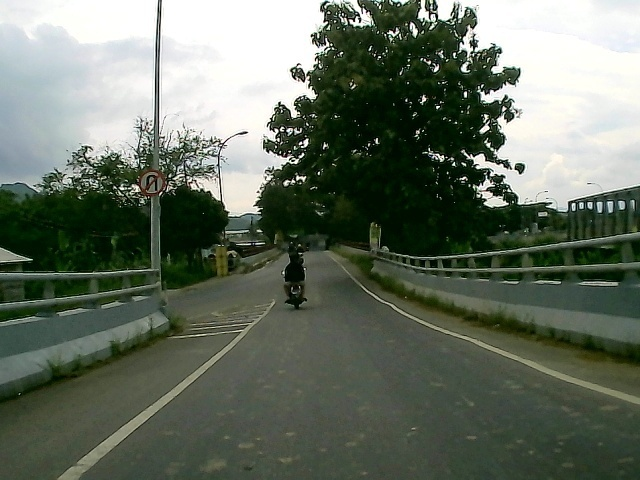Dilarang berbalik arah: (135, 170, 171, 199)
